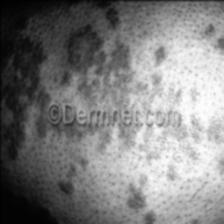Unclassified: (67, 21, 104, 75), (204, 22, 216, 41)
